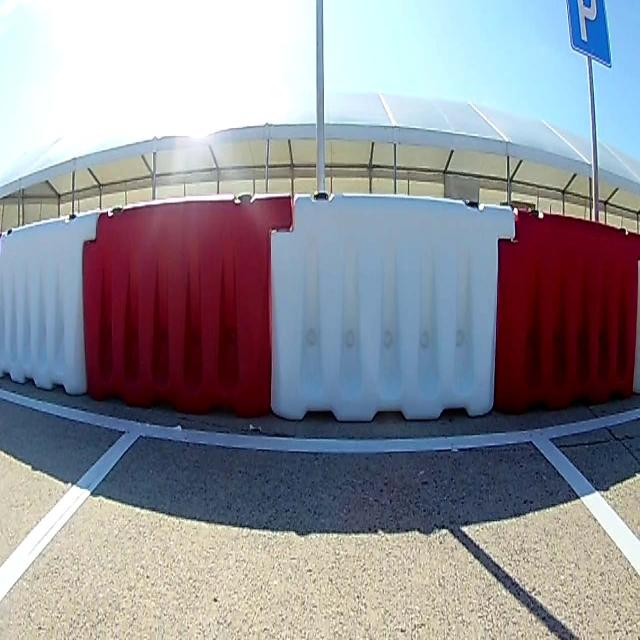park: (567, 0, 612, 64)
